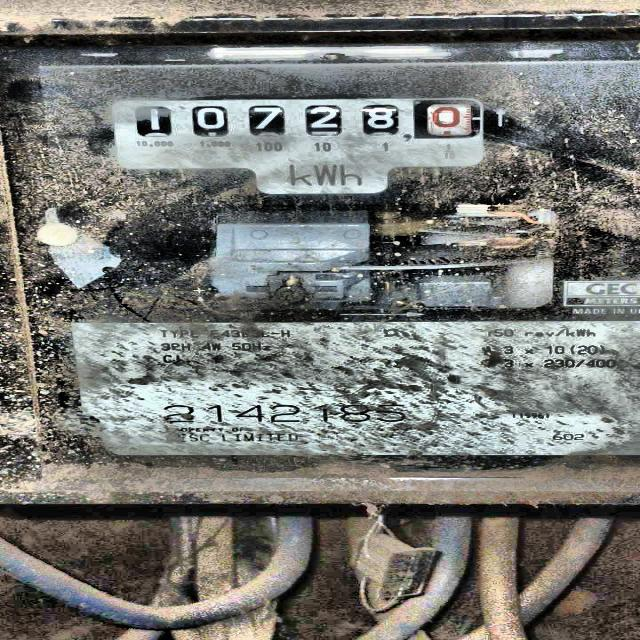Analog: (2, 24, 640, 514)
Reading: (111, 95, 484, 140)
Serial No.: (154, 402, 416, 427)
